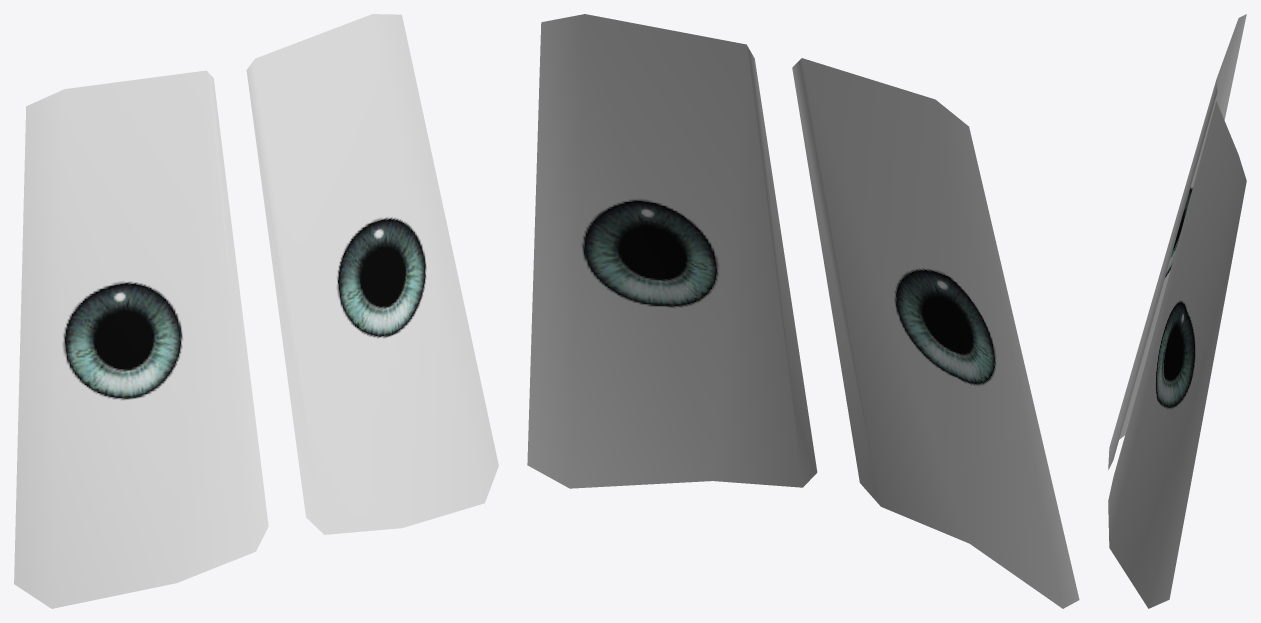
File: olhos.glb
The picture shows the model from 3 angles, left to right: view 1: azimuth 30°, elevation 25°; view 2: azimuth 150°, elevation 25°; view 3: azimuth 270°, elevation 25°; orthographic projection. The views are drawn at different scales.
Parts seen in each view (by area): view 1: trator_olhos; view 2: trator_olhos; view 3: trator_olhos.
Boxes of the visible parts, x1=… form: trator_olhos: x1=14, y1=14, x2=498, y2=608; trator_olhos: x1=527, y1=14, x2=1079, y2=608; trator_olhos: x1=1108, y1=14, x2=1246, y2=608.
Size of the model in its own units: 0.86 by 0.7938 by 0.234.
Materials: 1 (1 with a texture image).
